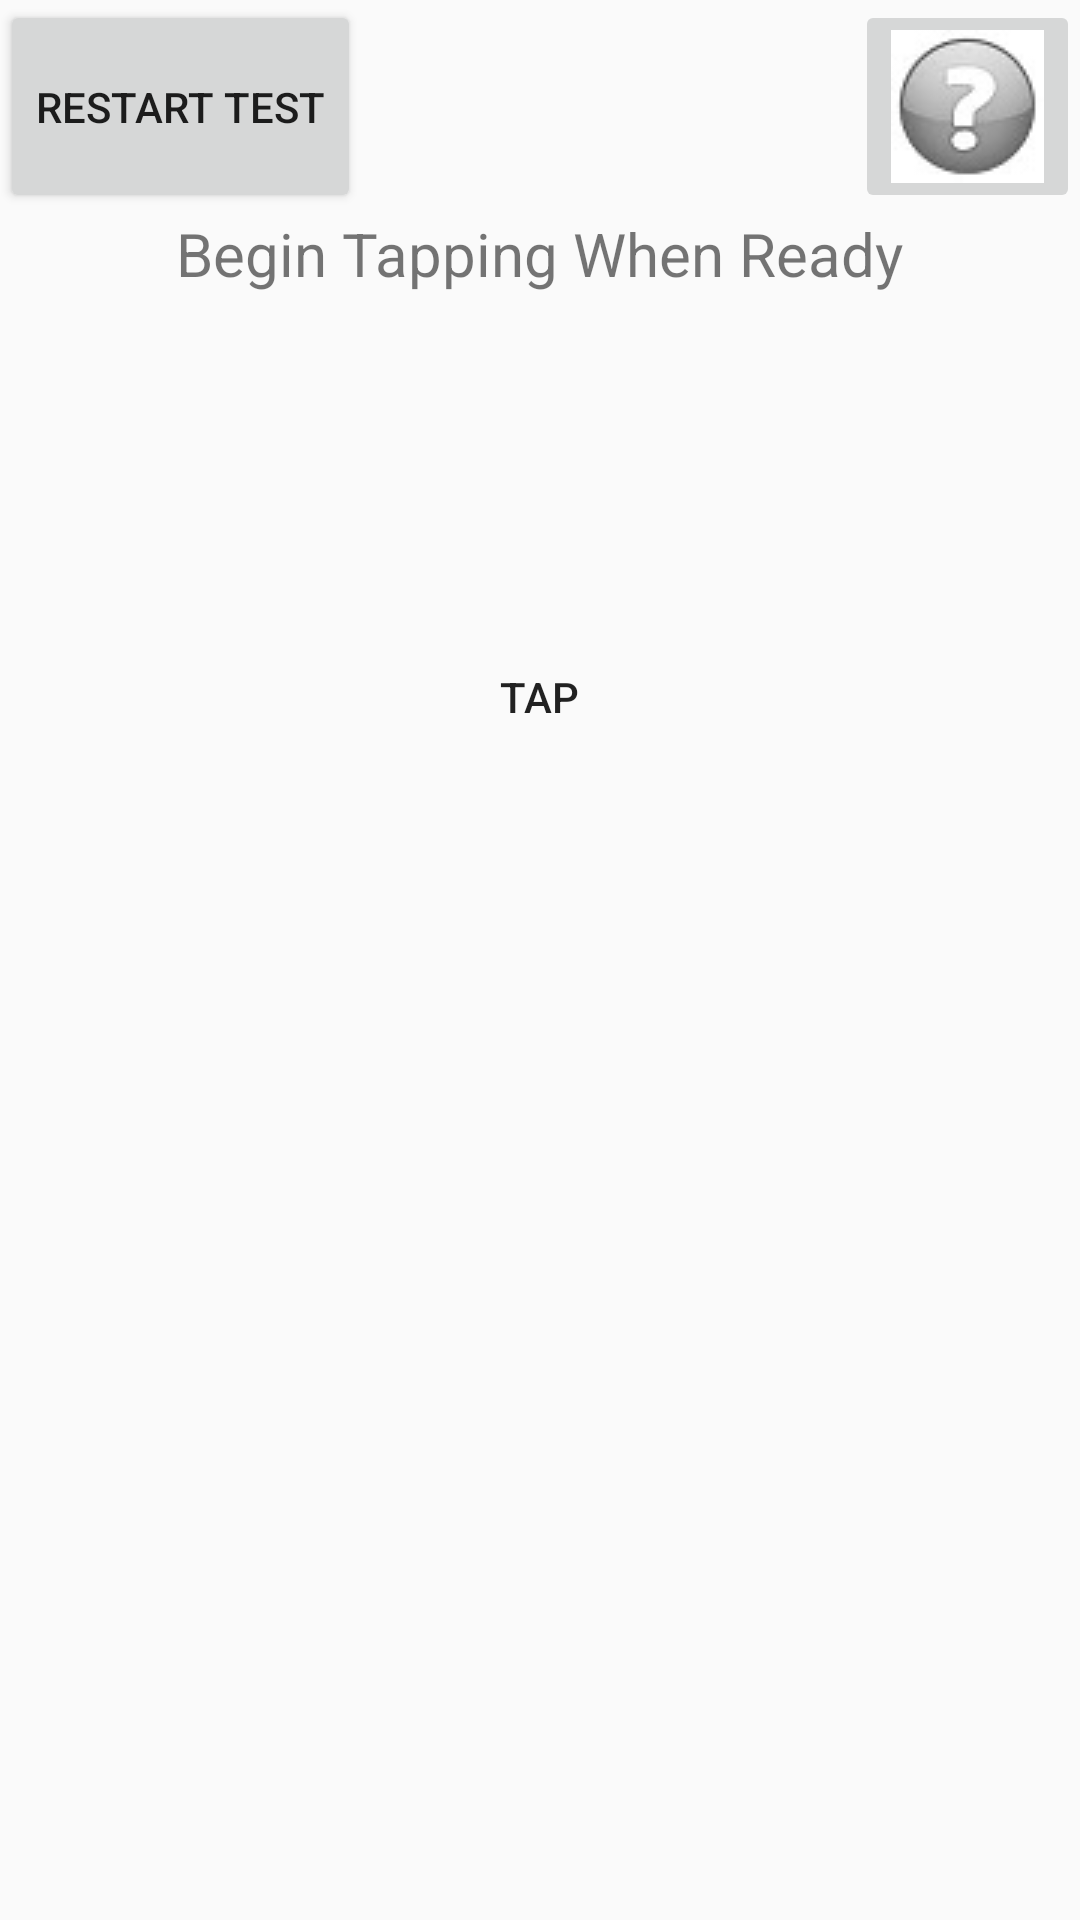

Named icons in this screenshot (1080x1920) and their bounding boxes, bbox=(x1, y1, x2, y2):
question mark: bbox=(867, 18, 1068, 195)
